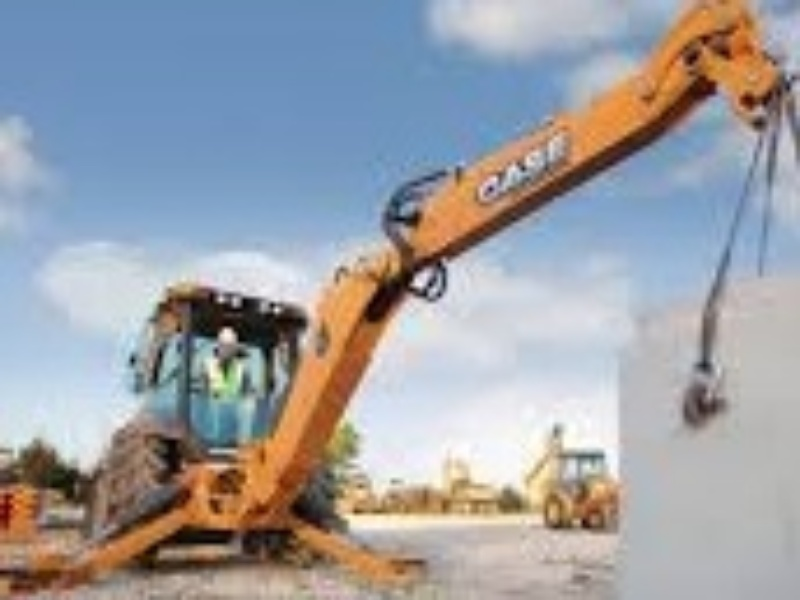wajueji: (61, 250, 419, 600)
